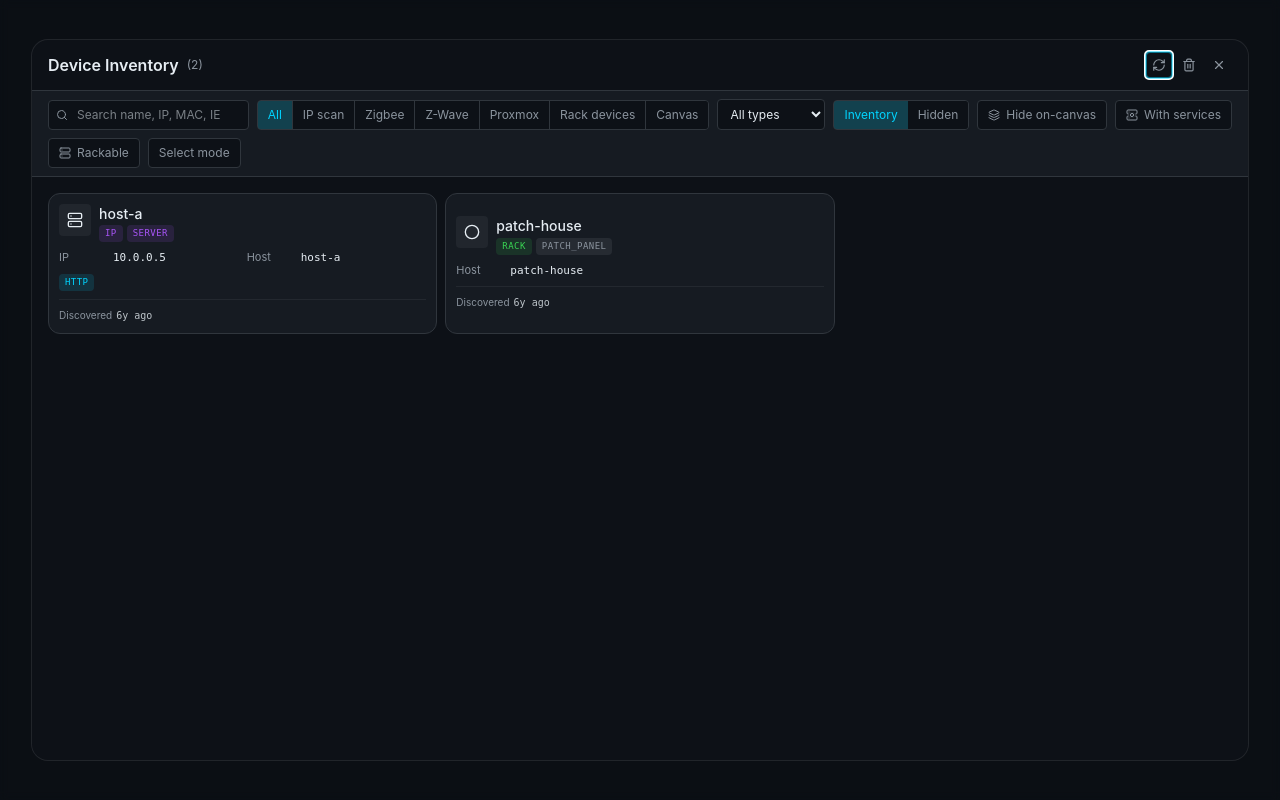
PendingDevicesModal — rack devices › filters them into their own section
expect the button with test id "pending-card-dev-a" is shown: met, box 48,193 -> 437,334
Click the button "Rack devices" at (597, 114), box 549,100 -> 645,128
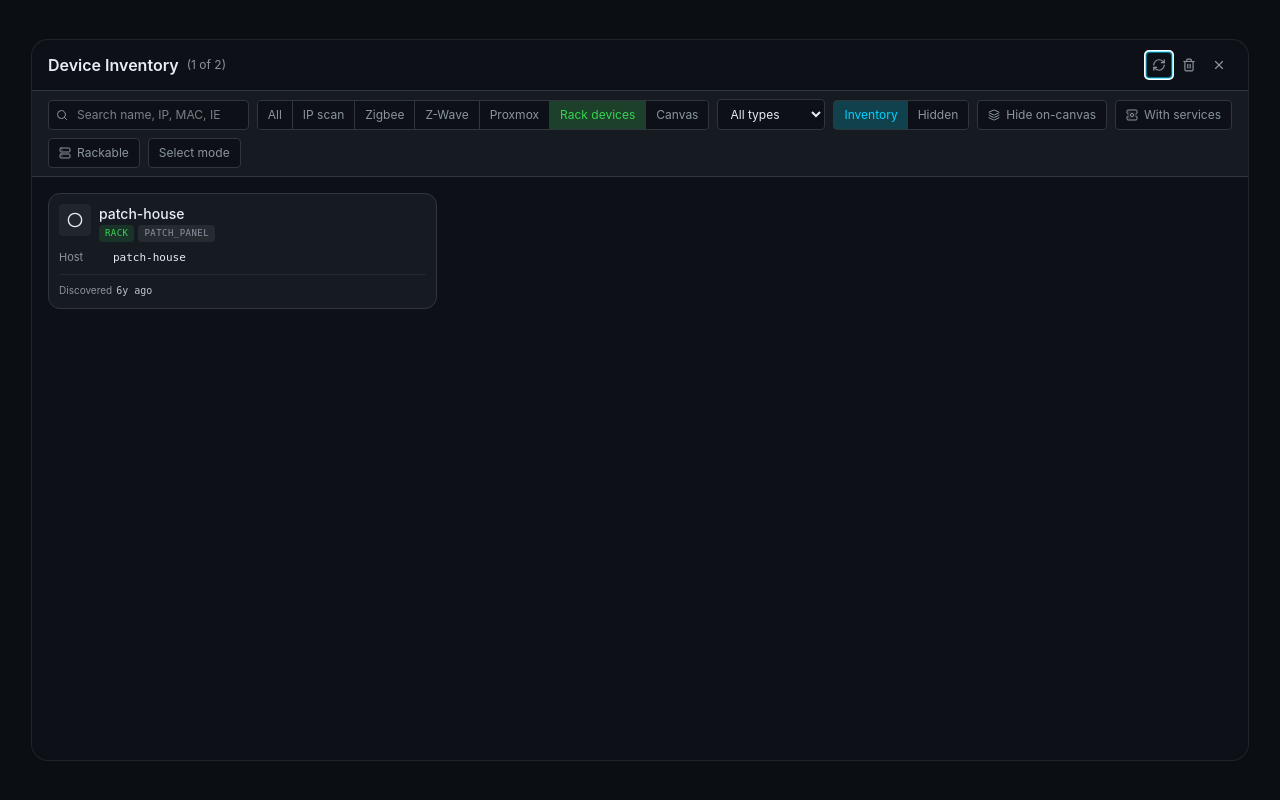
expect the button with test id "pending-card-dev-rack" is shown: met, box 48,193 -> 437,309
expect the button with test id "pending-card-dev-a" is gone: met
